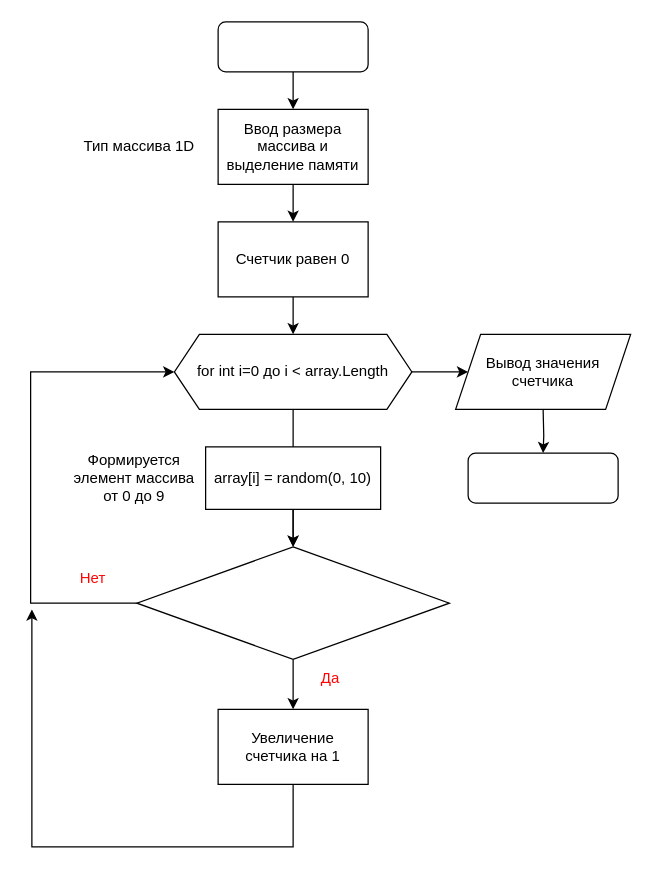
This 653x879 diagram has some shape labels left out. The shapes that lost their labels are listed below. From the top down, each one's centre as x and y in pixels, then its label:
At (292,46): "Начало".
At (542,477): "Конец".
At (292,602): "if (i % 2 == 0 & array[i] % 2 != 0)".
